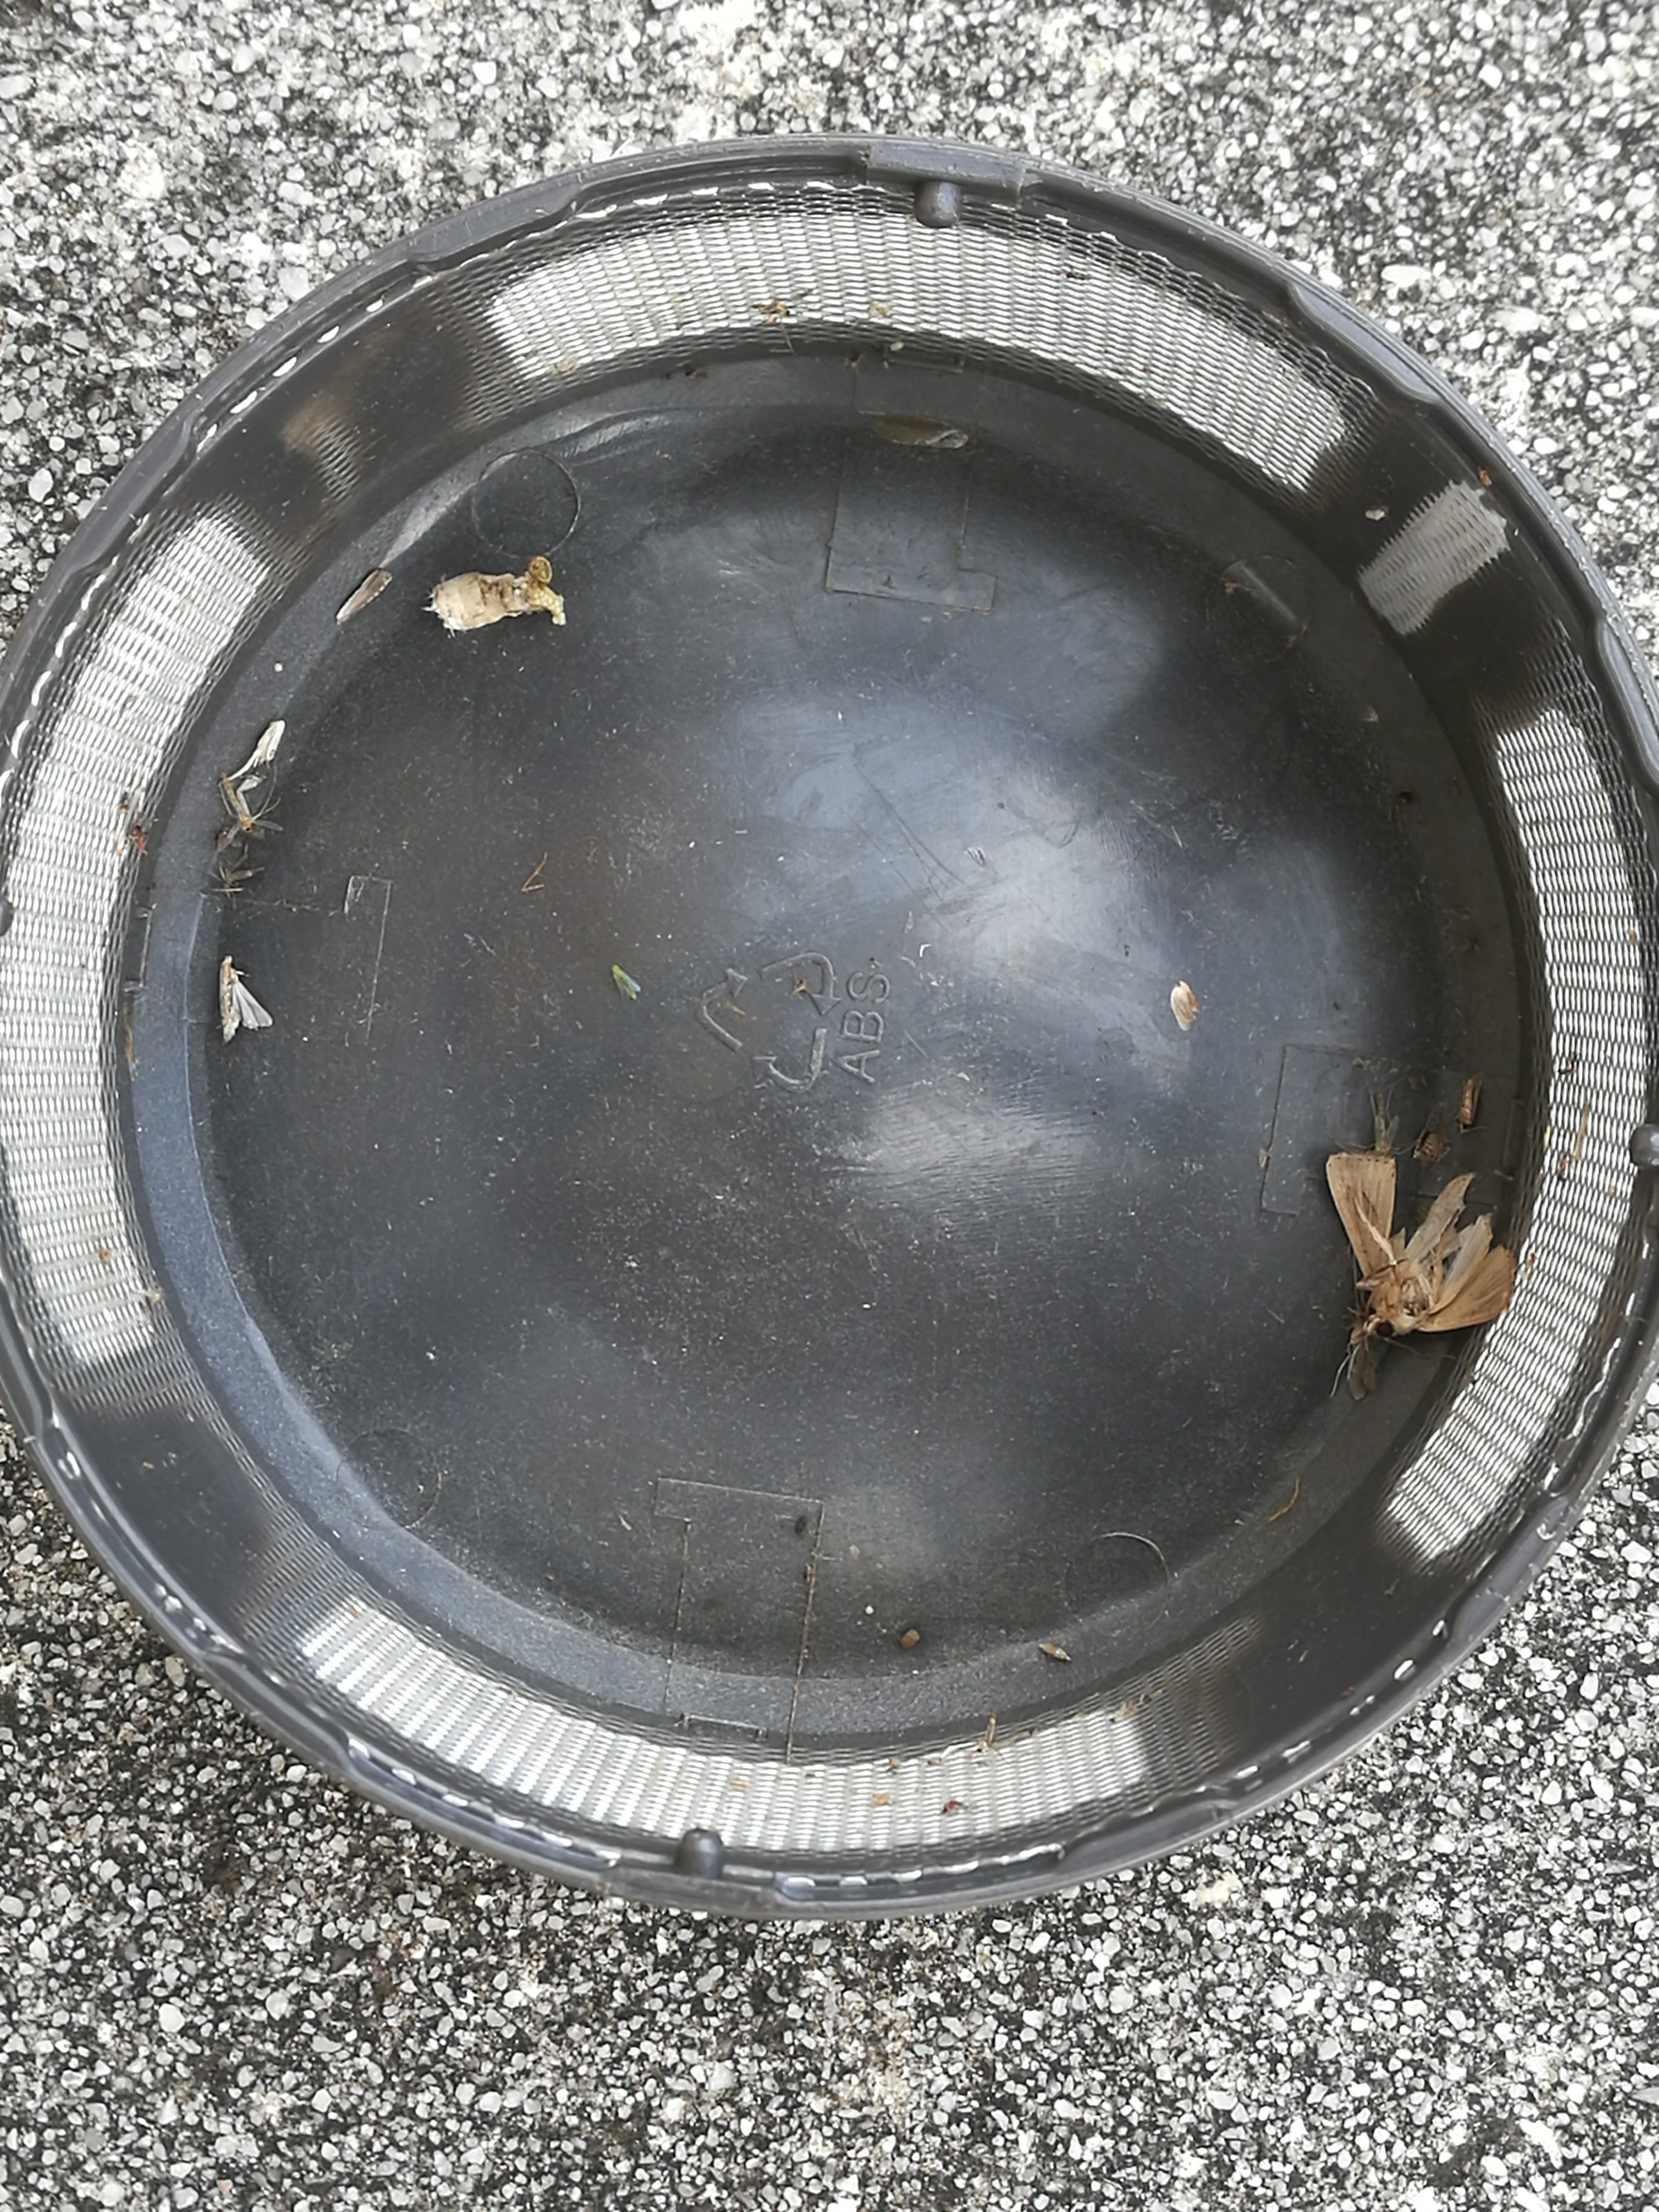mosquito: (1349, 1312, 1373, 1399), (1457, 1076, 1480, 1130), (1375, 1115, 1396, 1155)
moth: (1326, 1151, 1514, 1329), (220, 954, 272, 1043)
